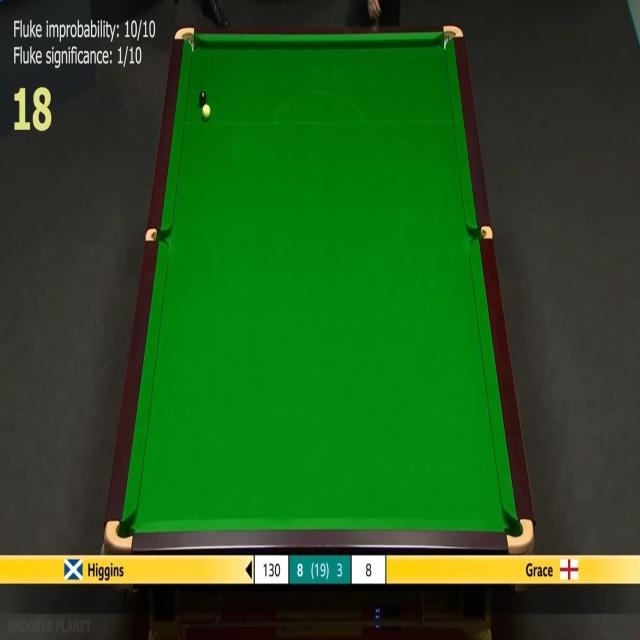Ball: (202, 106, 211, 120), (199, 92, 207, 105)
